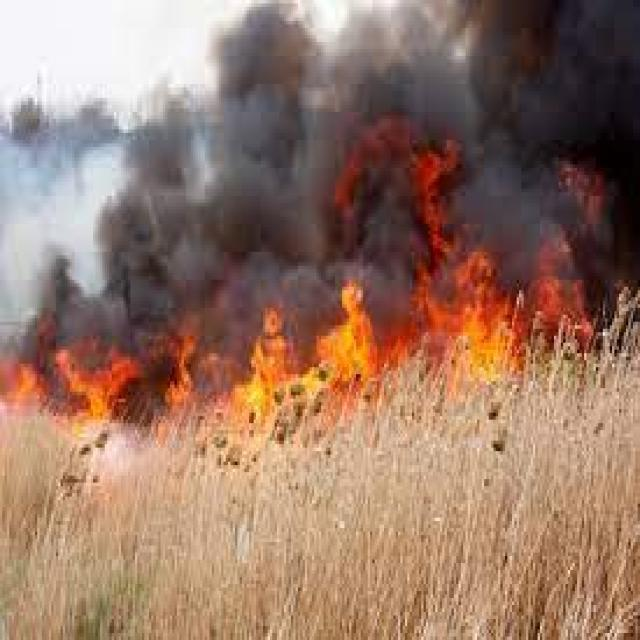Fire: (159, 249, 592, 432), (12, 338, 146, 447)
Smoke: (25, 0, 640, 332)
